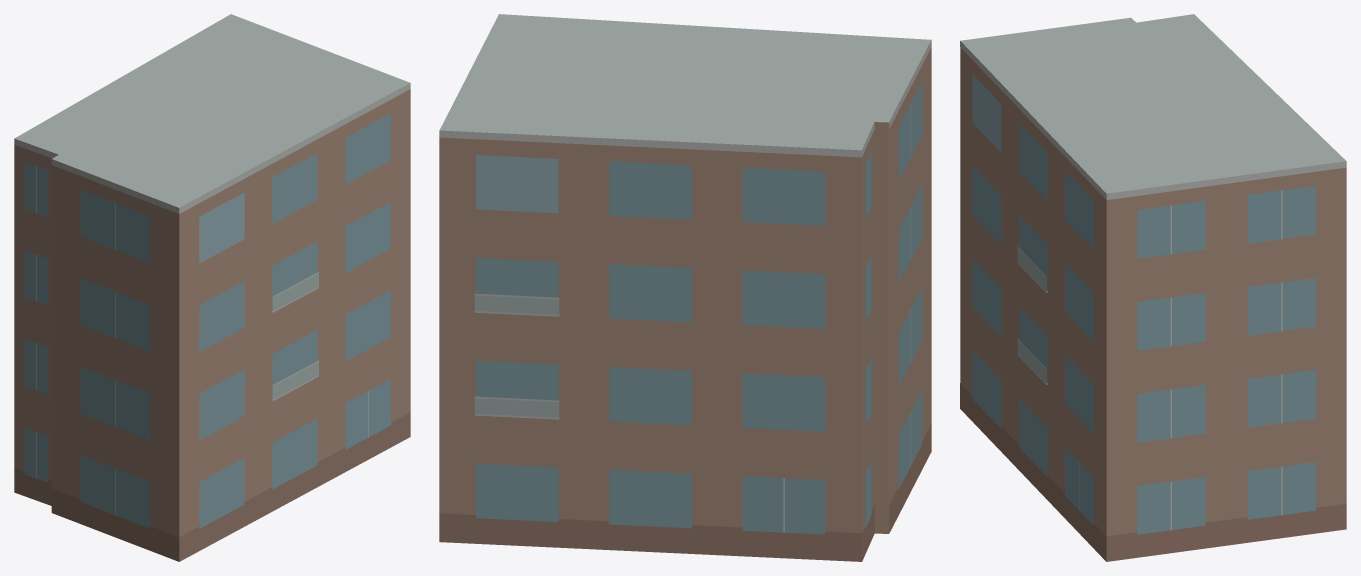
Rendered from survey-upis-32458108.glb.
3 views of the same model, side by side, from view 1: azimuth 30°, elevation 25°; view 2: azimuth 150°, elevation 25°; view 3: azimuth 270°, elevation 25° (orthographic). The views are drawn at different scales.
Visible parts, largest first — view 1: survey-upis-32458108.tmp; view 2: survey-upis-32458108.tmp; view 3: survey-upis-32458108.tmp.
Part boxes in pixels (x1,y1,x2,y2): survey-upis-32458108.tmp: (14, 14, 410, 561); survey-upis-32458108.tmp: (439, 14, 931, 561); survey-upis-32458108.tmp: (960, 14, 1346, 561).
Bounding box in the file's own units: 14.88 × 14.2 × 13.52.
